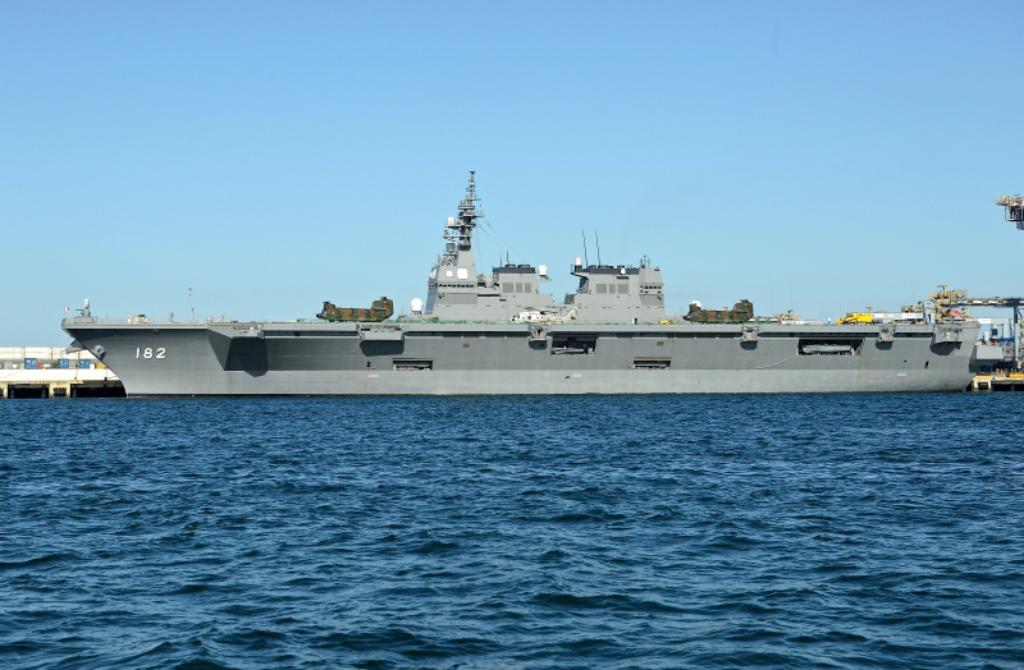Warship: (56, 164, 986, 406)
